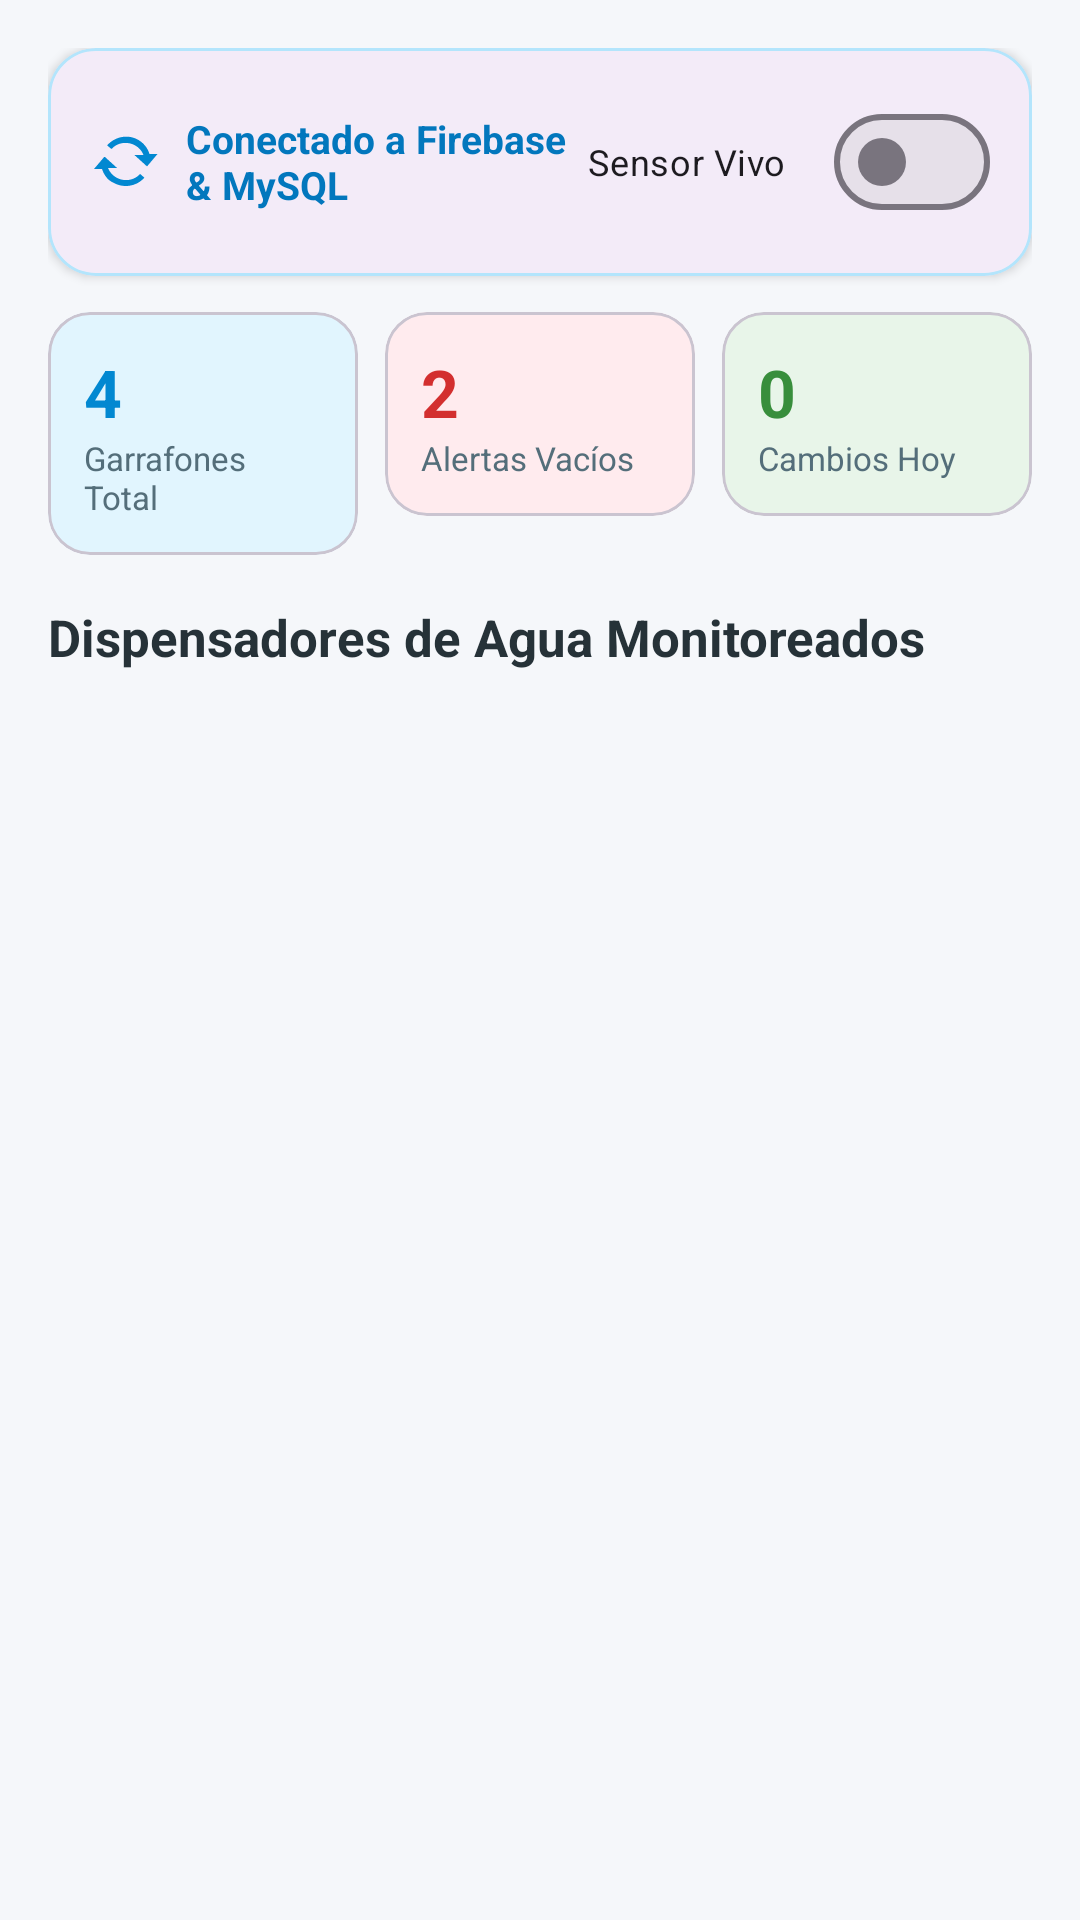

Icon click points for this 1080px x 1920px phone screenshot, format point (x, y):
sync: point (126, 161)
